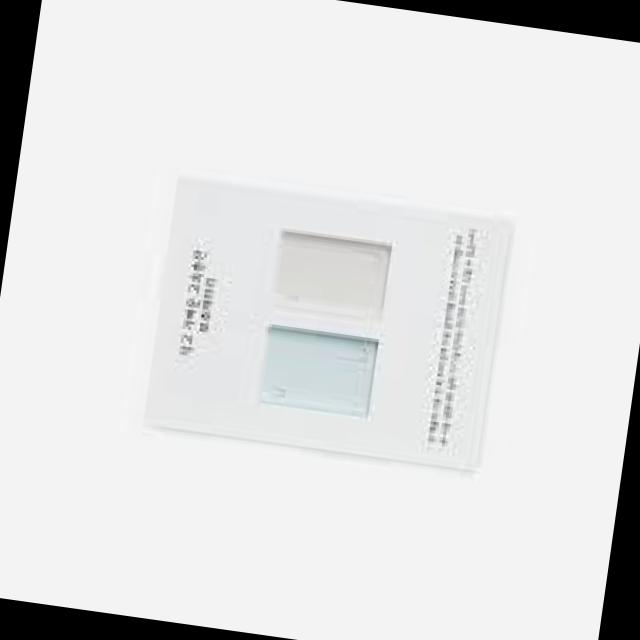portable-charger: (256, 320, 384, 422), (269, 226, 392, 319)
